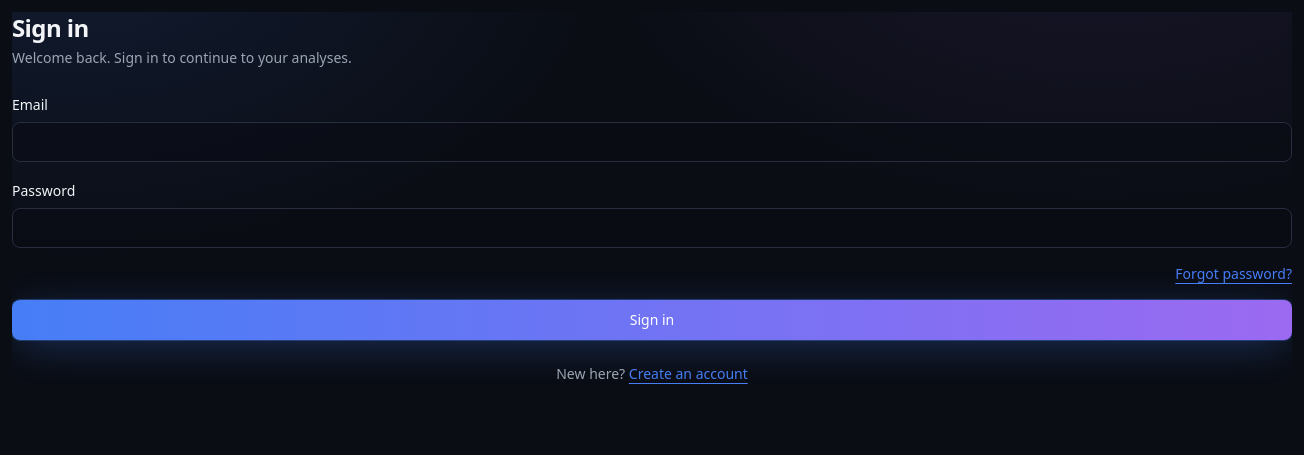
Login form › surfaces the server error message
Type "a@b.co" into the field labelled "Email".
click(652, 142); type("a@b.co")  # box x1=12 y1=122 x2=1292 y2=162
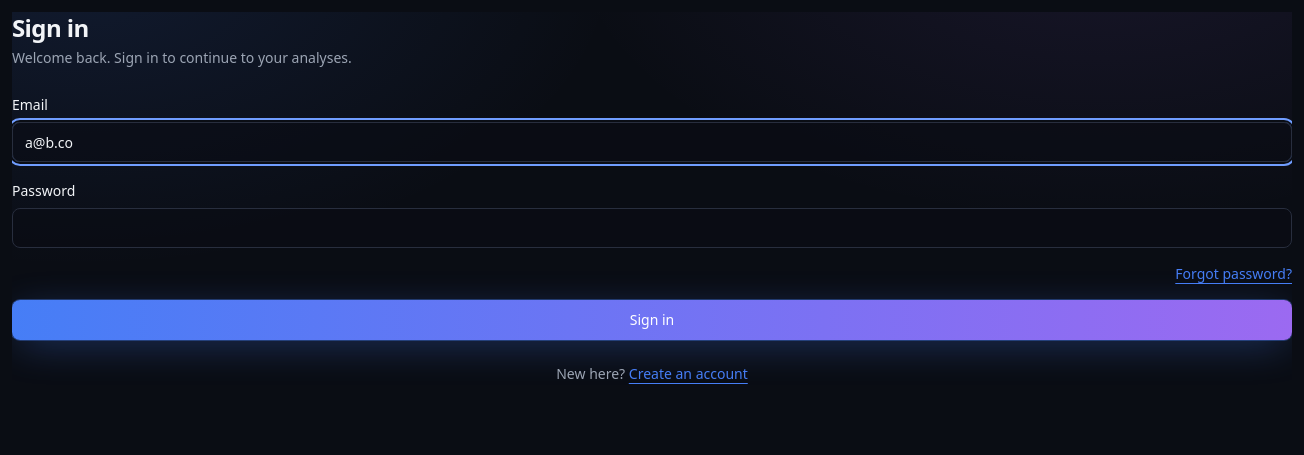
Type "whatever" into the password field labelled "Password".
click(652, 228); type("whatever")  # box x1=12 y1=208 x2=1292 y2=248
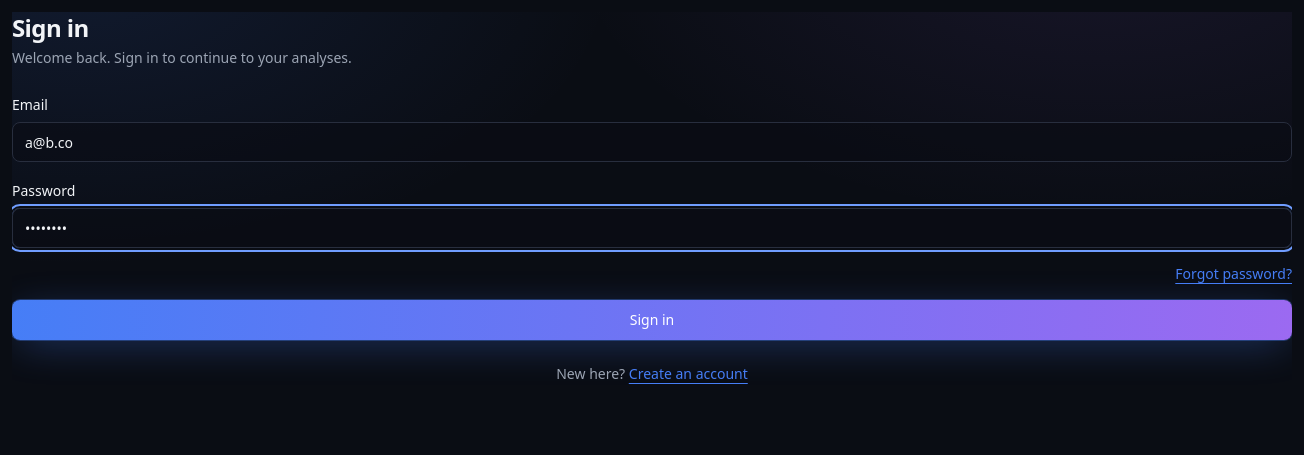
Click the button "Sign in".
click(652, 320)  # box x1=12 y1=300 x2=1292 y2=340
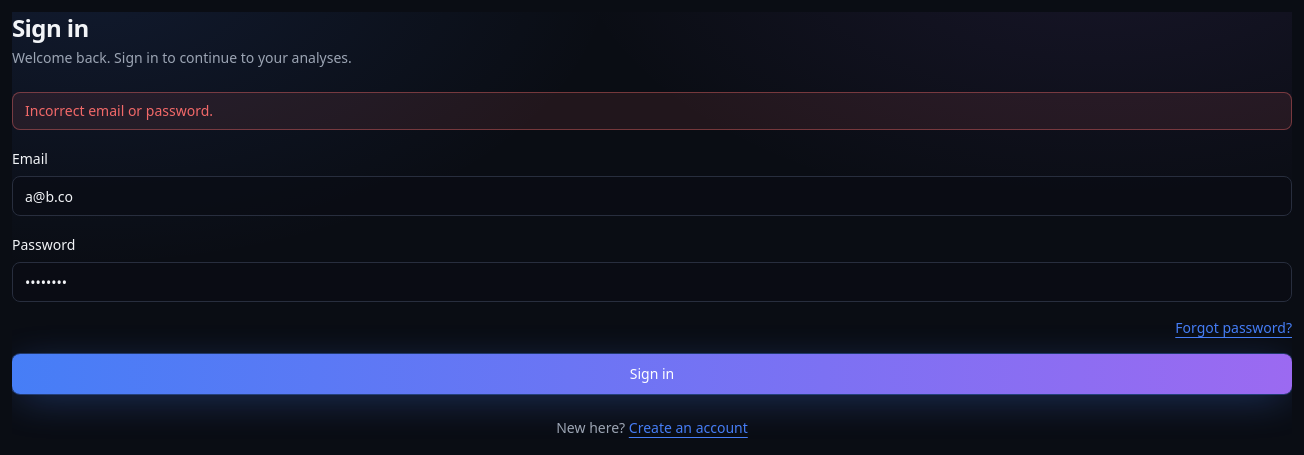
expect the message reads "Incorrect email or password.": met, box x1=25 y1=101 x2=213 y2=120
